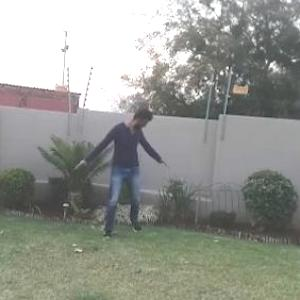land: (72, 105, 180, 246)
